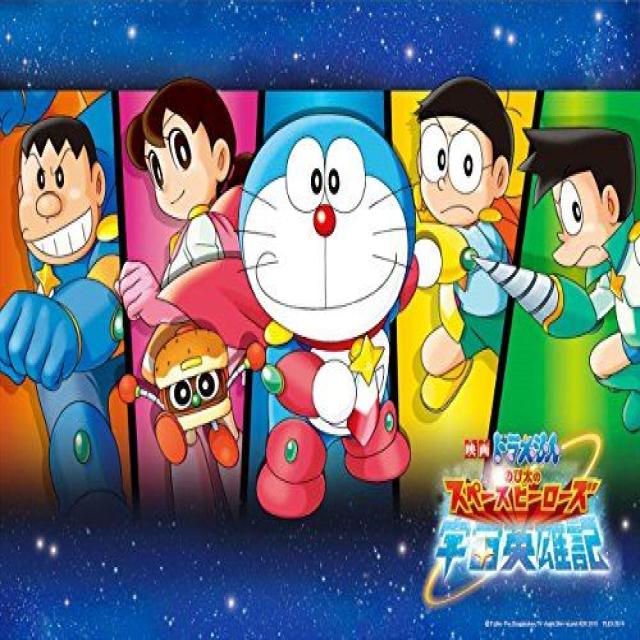doraemon: (238, 103, 417, 348)
jaian: (10, 112, 106, 266)
nobita: (414, 73, 514, 226)
shizuka: (120, 78, 237, 224)
suneo: (518, 112, 638, 268)
